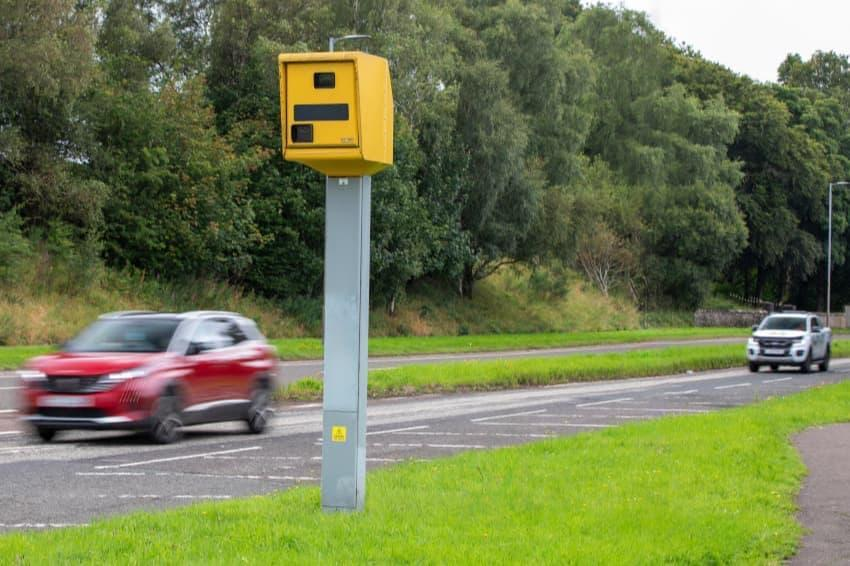Speed-Camera: (272, 28, 406, 182)
